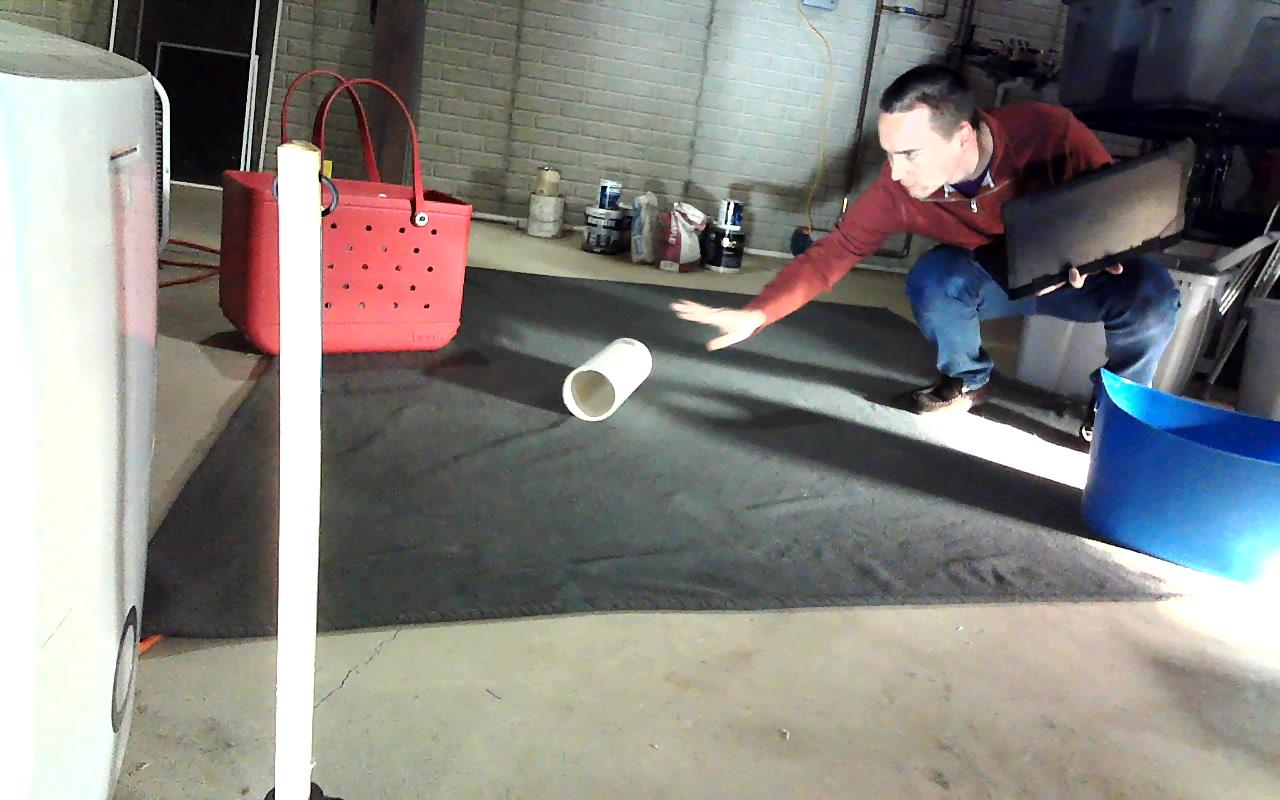coral: (562, 339, 651, 420)
